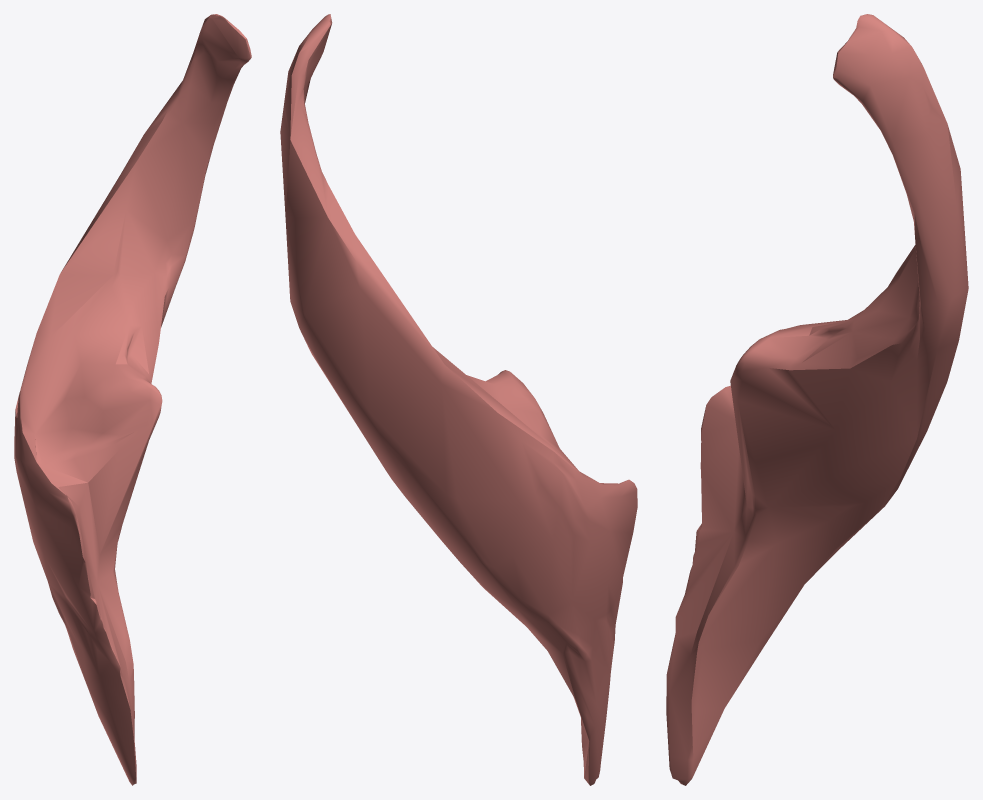
File: fma22592_fj1430m.glb
3 views of the same model, side by side, from view 1: azimuth 30°, elevation 25°; view 2: azimuth 150°, elevation 25°; view 3: azimuth 270°, elevation 25° (orthographic). The views are drawn at different scales.
Parts seen in each view (by area): view 1: FMA22592_FJ1430M; view 2: FMA22592_FJ1430M; view 3: FMA22592_FJ1430M.
Boxes of the visible parts, x1=… form: FMA22592_FJ1430M: x1=14, y1=14, x2=251, y2=785; FMA22592_FJ1430M: x1=280, y1=14, x2=637, y2=785; FMA22592_FJ1430M: x1=666, y1=14, x2=968, y2=785.
Bounding box in the file's own units: 0.0529 × 0.1447 × 0.0457.
